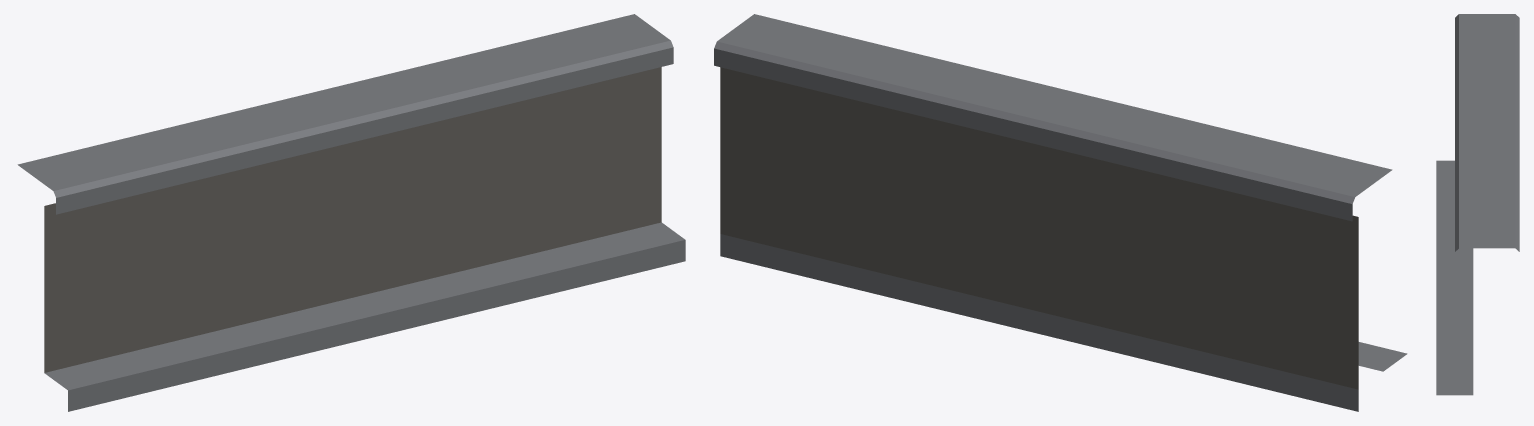
File: SM_Roof_3m.gltf
3 views of the same model, side by side, from view 1: azimuth 30°, elevation 25°; view 2: azimuth 150°, elevation 25°; view 3: azimuth 270°, elevation 25° (orthographic). The views are drawn at different scales.
Parts seen in each view (by area): view 1: SM_Roof_3m; view 2: SM_Roof_3m; view 3: SM_Roof_3m.
Part boxes in pixels (x1,y1,x2,y2): SM_Roof_3m: [17, 14, 685, 411]; SM_Roof_3m: [714, 14, 1407, 411]; SM_Roof_3m: [1436, 14, 1519, 395].
Size of the model in its own units: 3 by 0.9755 by 0.45.
Materials: 1 (1 with a texture image).
